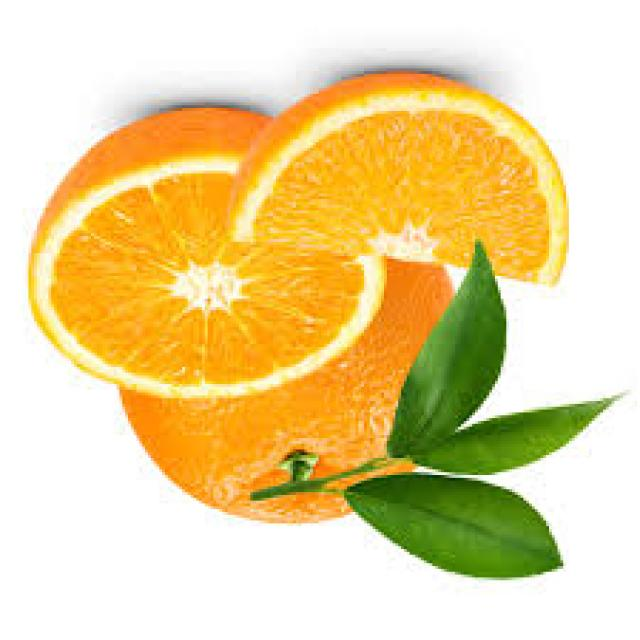orange: (31, 120, 388, 382)
